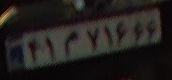character: (61, 29, 83, 60), (84, 25, 102, 55), (26, 38, 43, 66), (115, 18, 130, 48), (43, 35, 58, 63), (131, 17, 145, 46), (146, 15, 160, 44), (103, 21, 115, 53)
